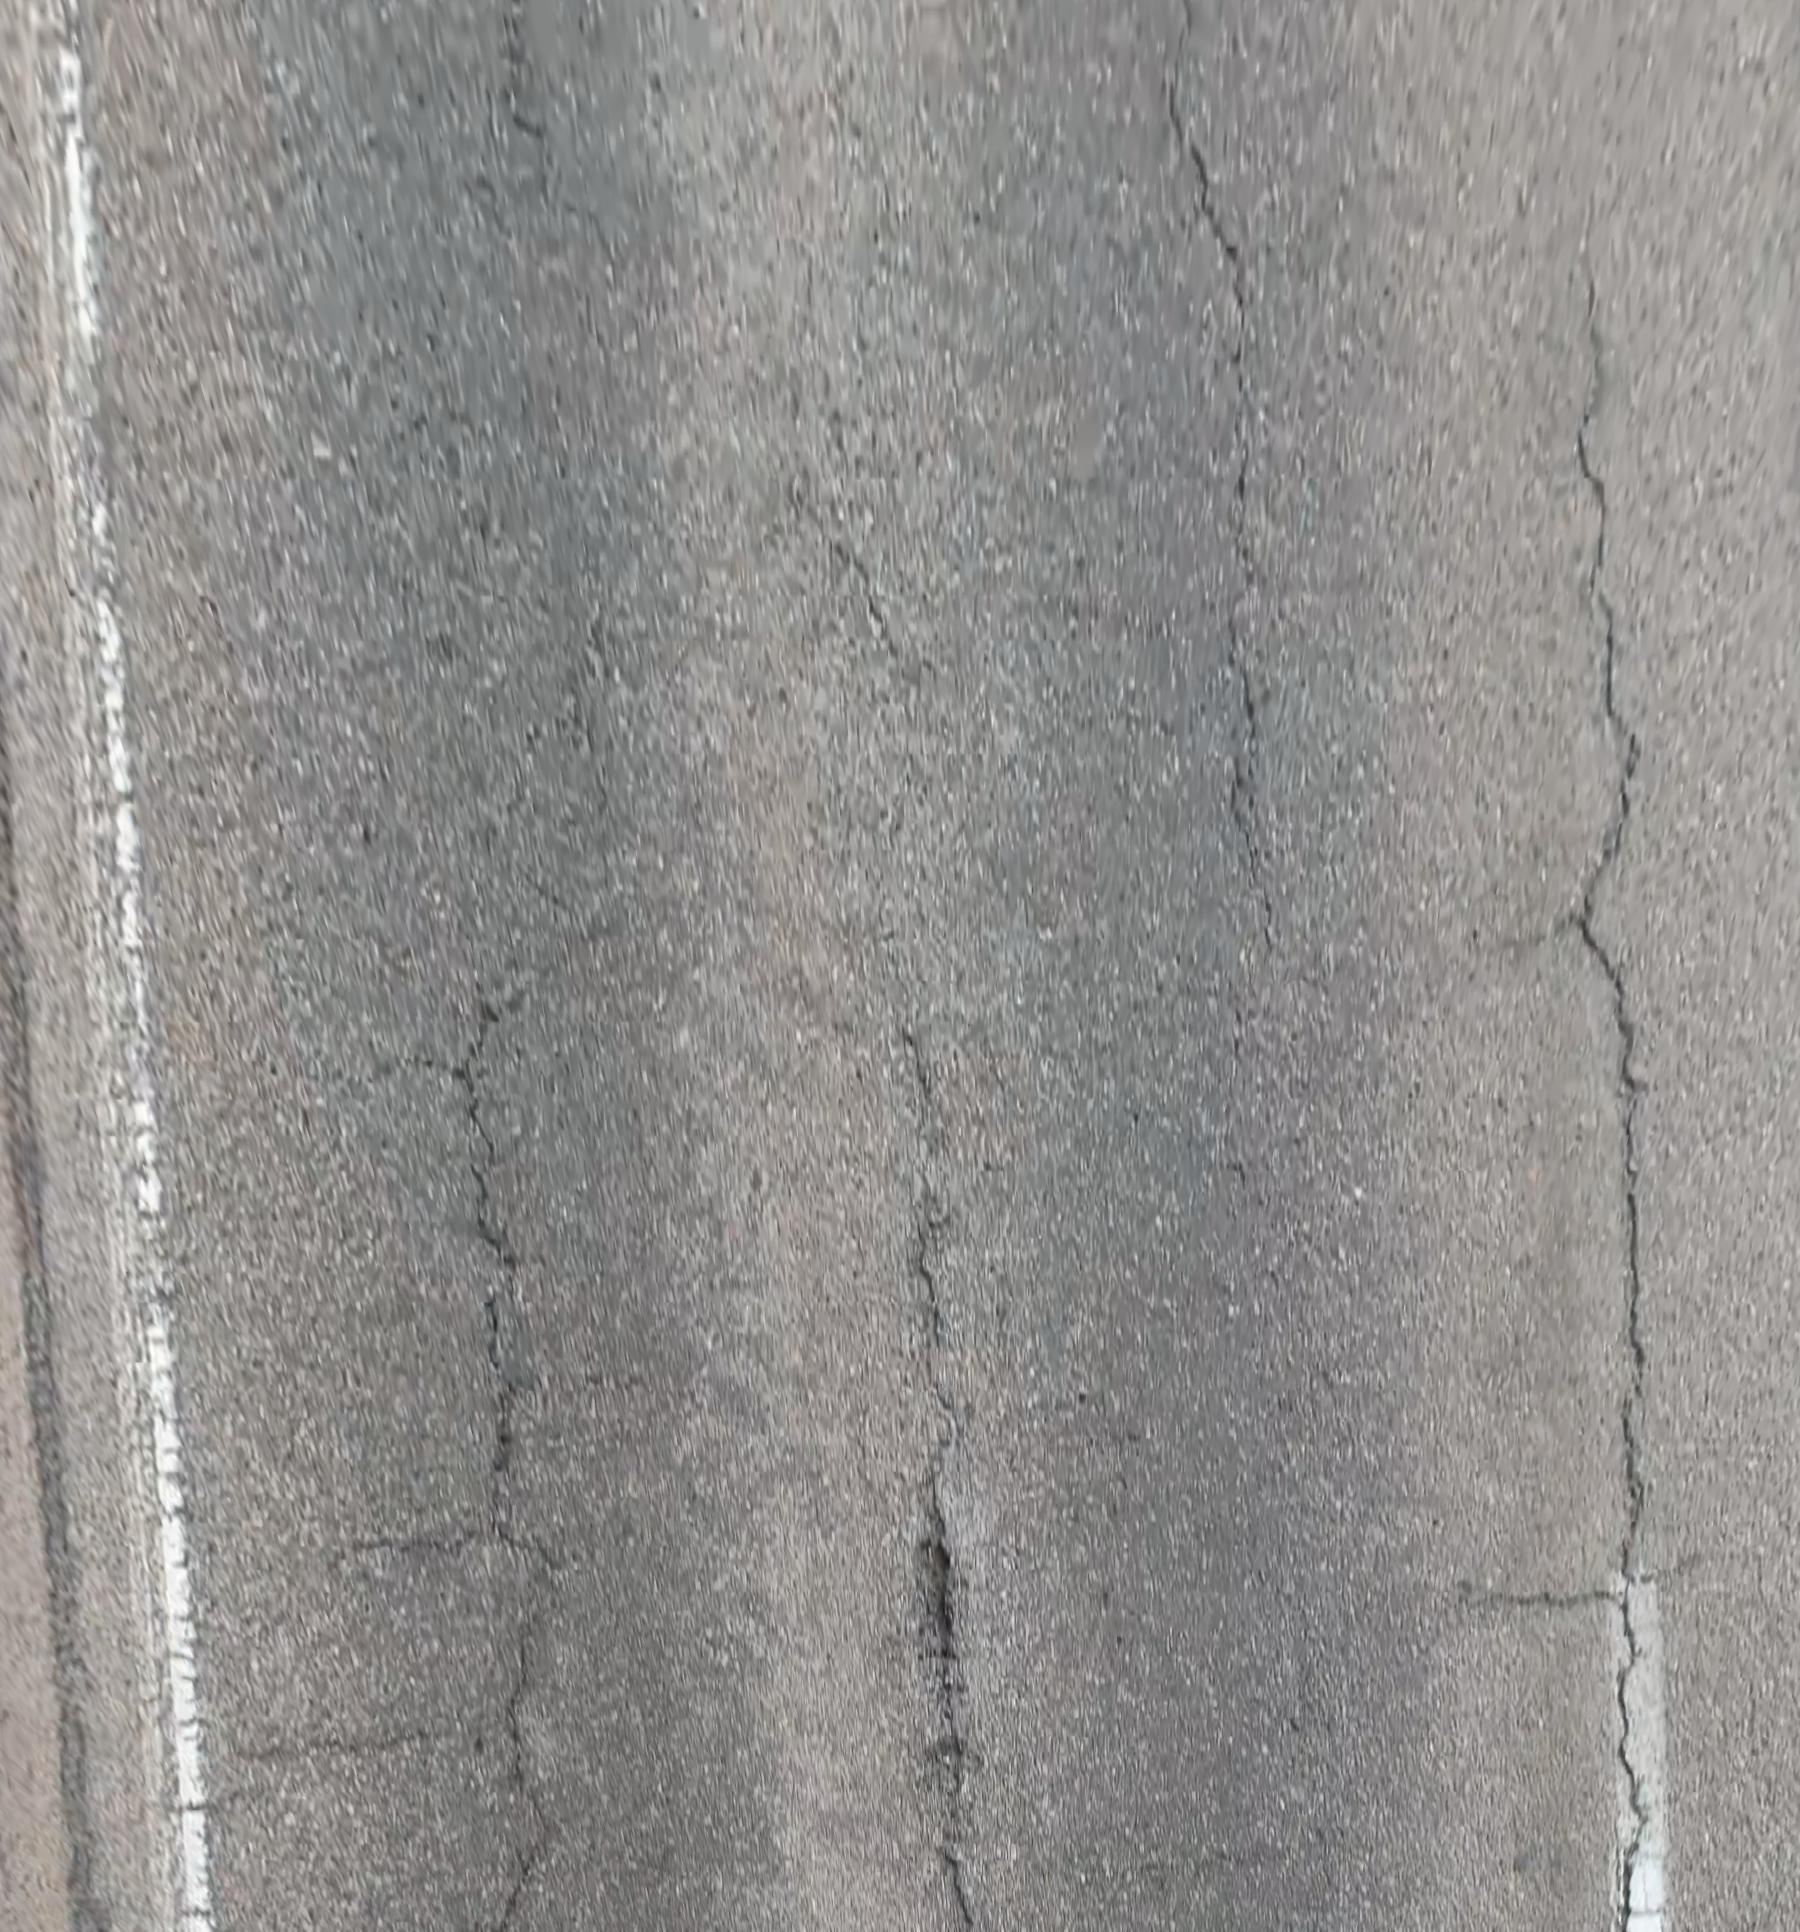pothole: (908, 1511, 963, 1661)
